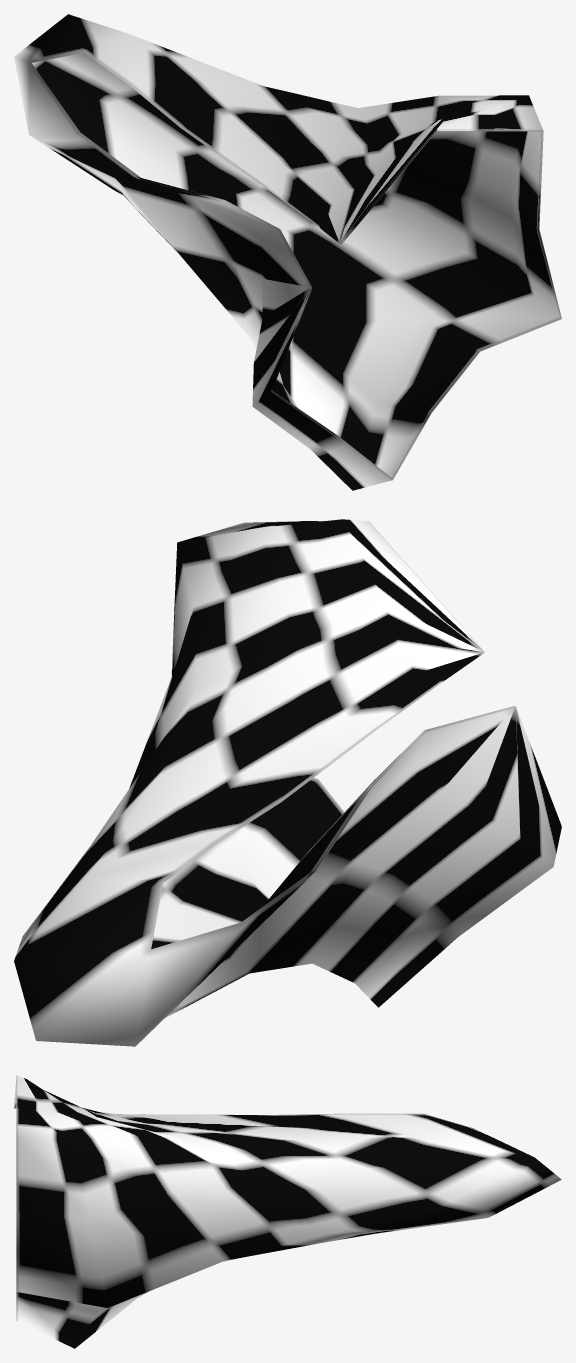
File: initlitr29.dae
The picture shows the model from 3 angles, top to bottom: view 1: azimuth 30°, elevation 25°; view 2: azimuth 150°, elevation 25°; view 3: azimuth 270°, elevation 25°; orthographic projection. The views are drawn at different scales.
Parts seen in each view (by area): view 1: item; view 2: item; view 3: item.
Part boxes in pixels (x1,y1,x2,y2): item: (14, 14, 561, 490); item: (14, 519, 561, 1046); item: (14, 1075, 561, 1348).
Size of the model in its own units: 0.85 by 1.66 by 0.9812.
1 material, 1 textured.
